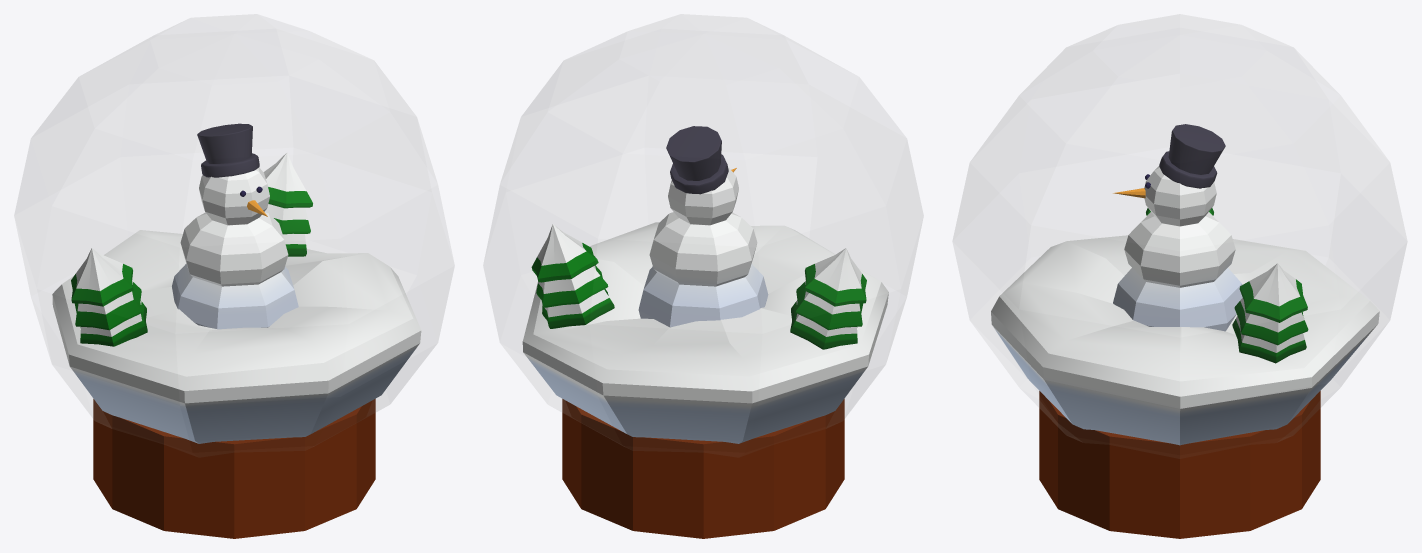
Rendered from Snowglobe.fbx.
3 views of the same model, side by side, from view 1: azimuth 30°, elevation 25°; view 2: azimuth 150°, elevation 25°; view 3: azimuth 270°, elevation 25° (orthographic).
Parts seen in each view (by area): view 1: Snowglobe; view 2: Snowglobe; view 3: Snowglobe.
Boxes of the visible parts, bbox=[...] form: Snowglobe: bbox=[14, 14, 454, 538]; Snowglobe: bbox=[483, 14, 923, 538]; Snowglobe: bbox=[953, 14, 1406, 538].
Size of the model in its own units: 70.58 by 76 by 70.58.
